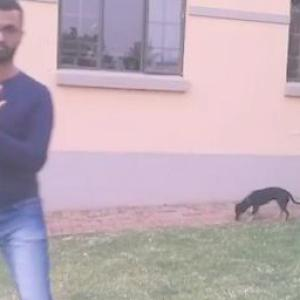follow_hand: (1, 66, 12, 148)
